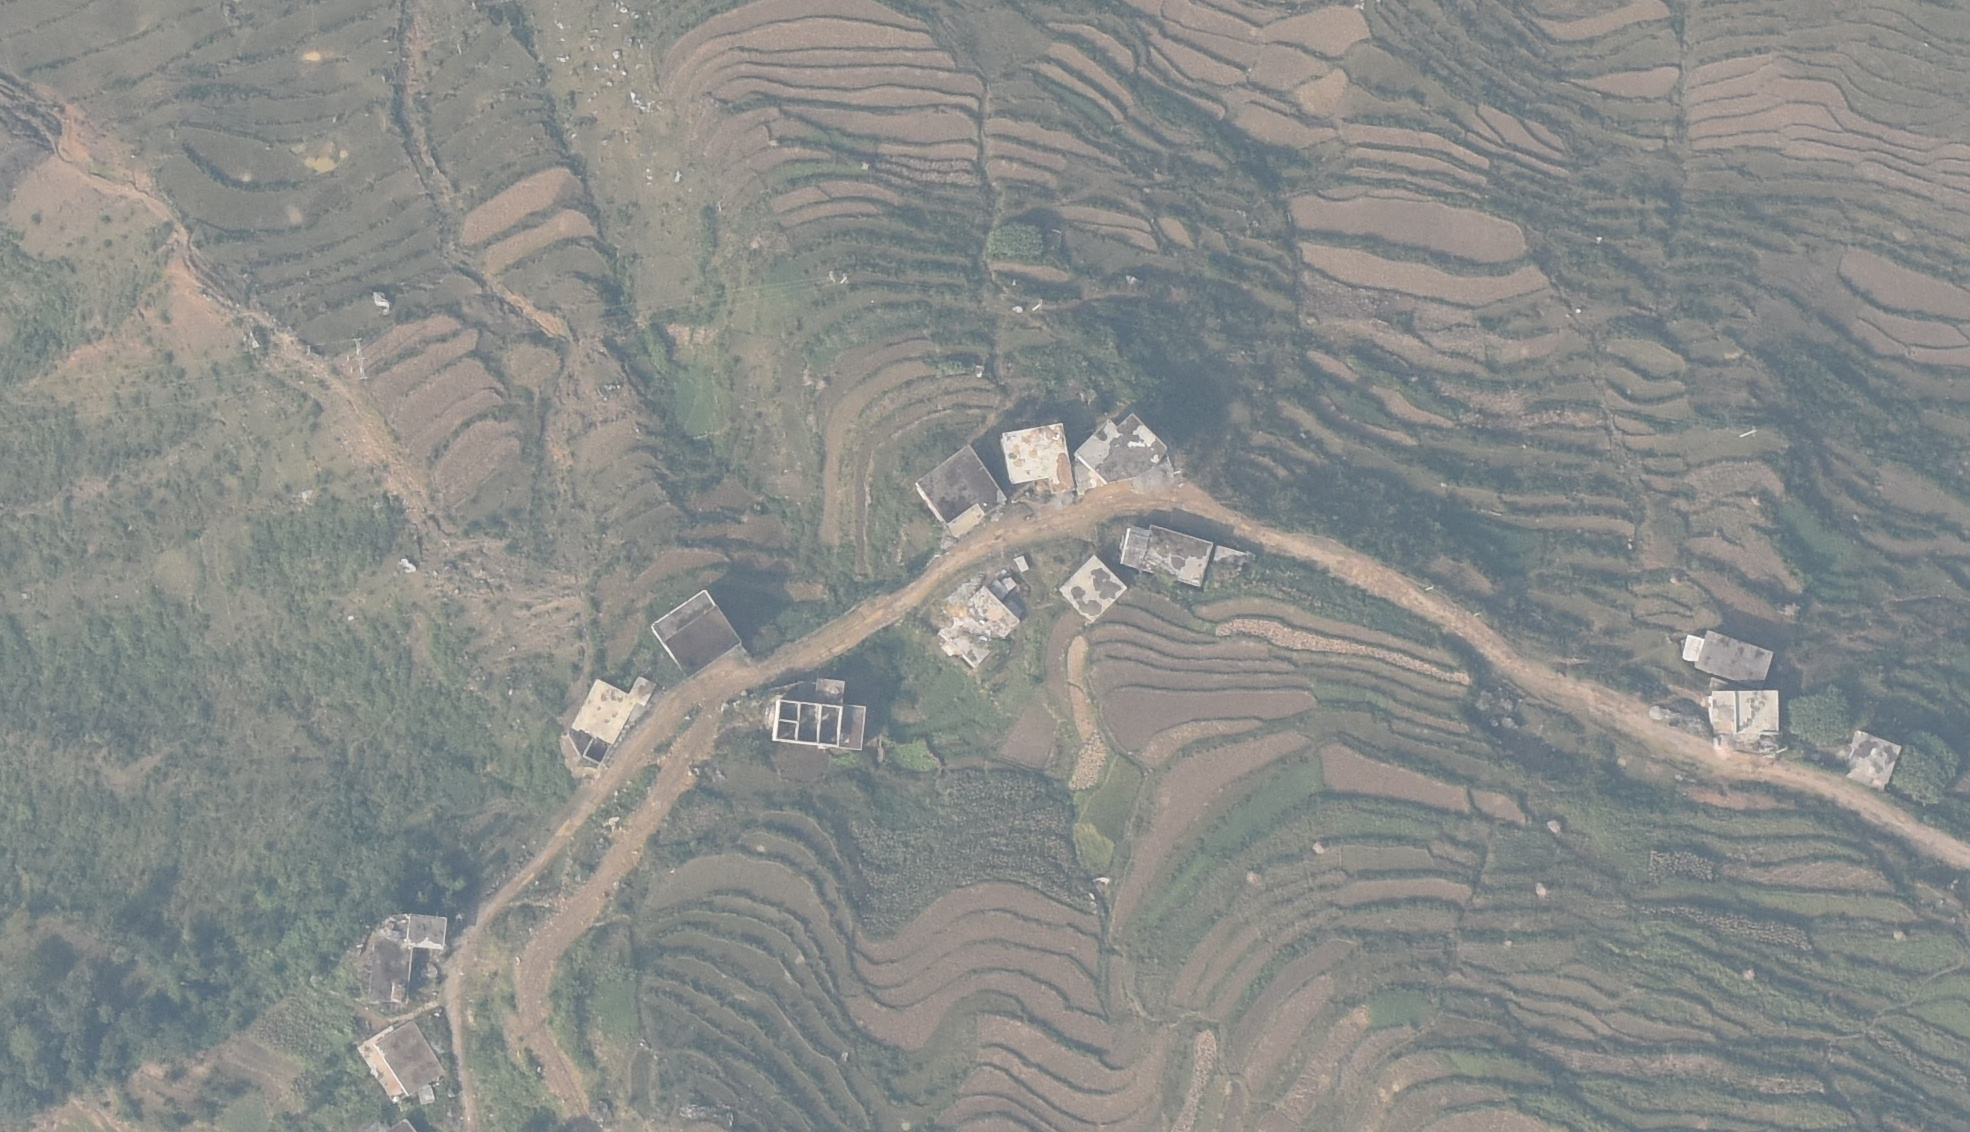building: (758, 661, 885, 752), (570, 668, 668, 776), (645, 586, 760, 678), (348, 1017, 463, 1105), (361, 901, 455, 1009), (919, 435, 1005, 538), (1120, 517, 1212, 600), (938, 584, 1022, 669), (996, 417, 1078, 499), (1074, 411, 1166, 477), (1680, 625, 1782, 684), (1055, 550, 1128, 626), (1708, 684, 1790, 742), (1844, 726, 1902, 790), (1012, 555, 1030, 573)
cable-tower: (344, 335, 380, 390), (825, 262, 854, 289)
